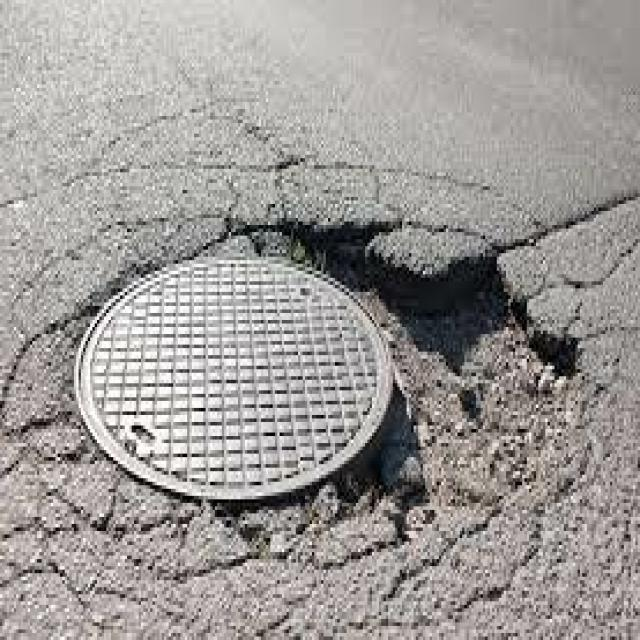pothole: (220, 183, 608, 588)
